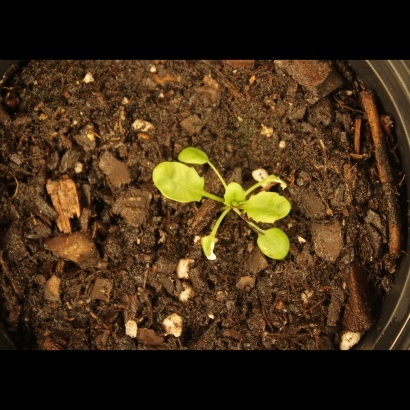leaf: (150, 156, 206, 207), (248, 226, 298, 269), (242, 189, 298, 222), (178, 138, 211, 169), (196, 231, 226, 264), (219, 178, 249, 207)
